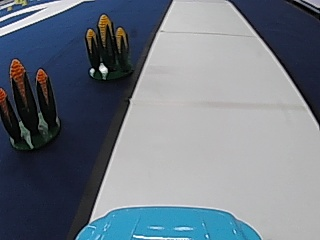corn: (0, 58, 64, 151), (82, 11, 134, 80)
